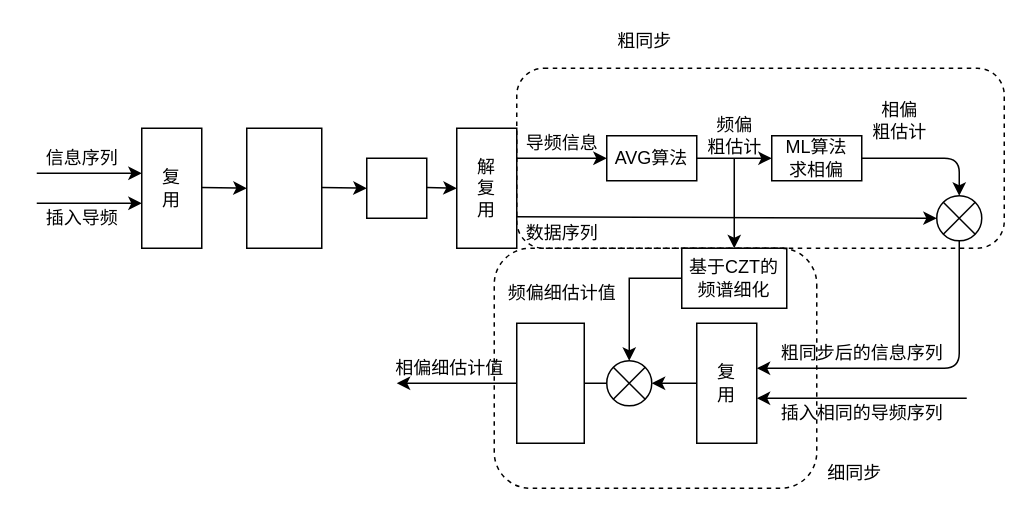
Some shapes in this 1031 by 515 pixel diagram are drawn without their labels. Each missing label, with the centre of its shape:
"ML算法求相偏" belongs at pixel 549 382.
"SOQP SK调制" belongs at pixel 283 187.
"信道" belongs at pixel 396 187.
